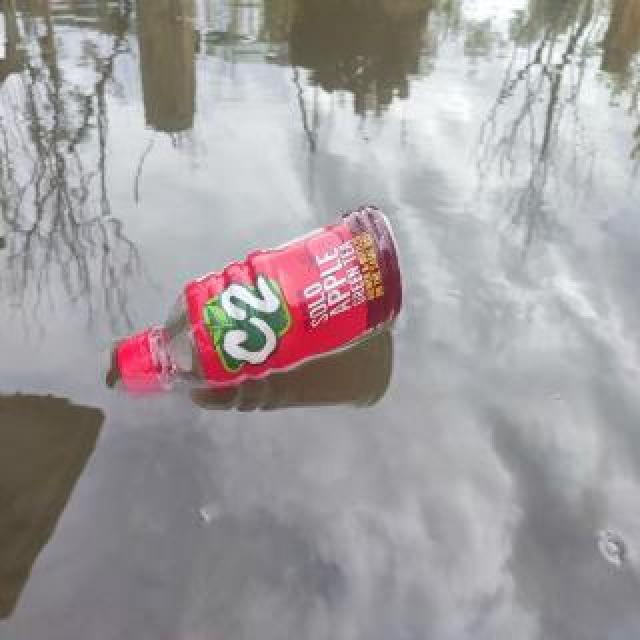bottle: (114, 198, 406, 396)
